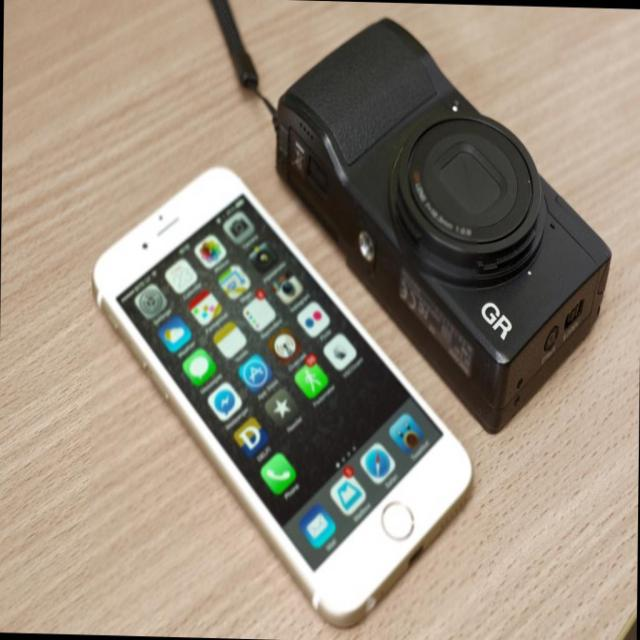handphone: (92, 172, 466, 609)
